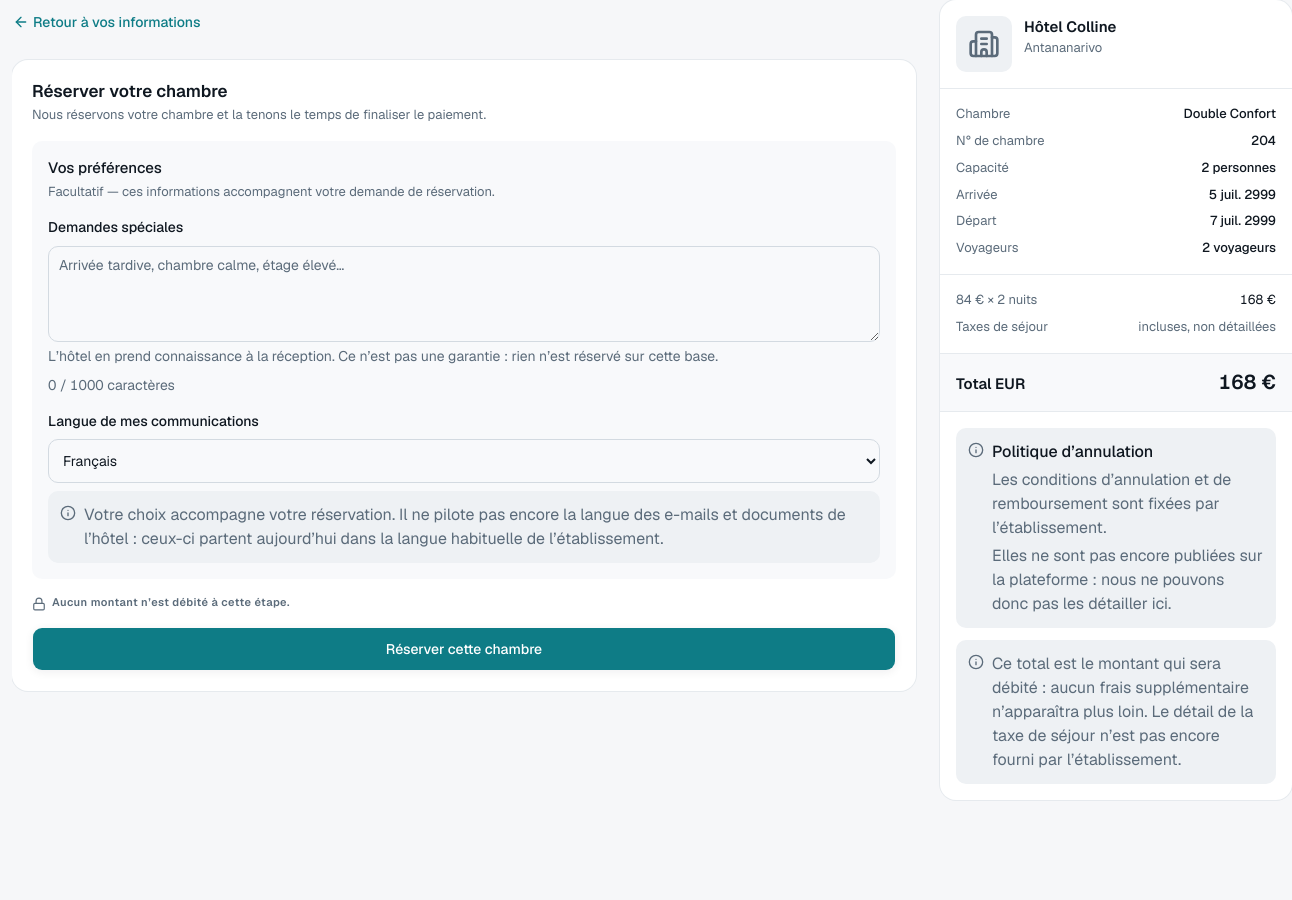
Test: BookingPayment — échecs et issues (AC-11) › motif `invalid-dates` → issue `400`
This screenshot has width=1292, height=900.
Click the button with test id "payment-create-cta": [464, 649] box x1=32 y1=627 x2=896 y2=671
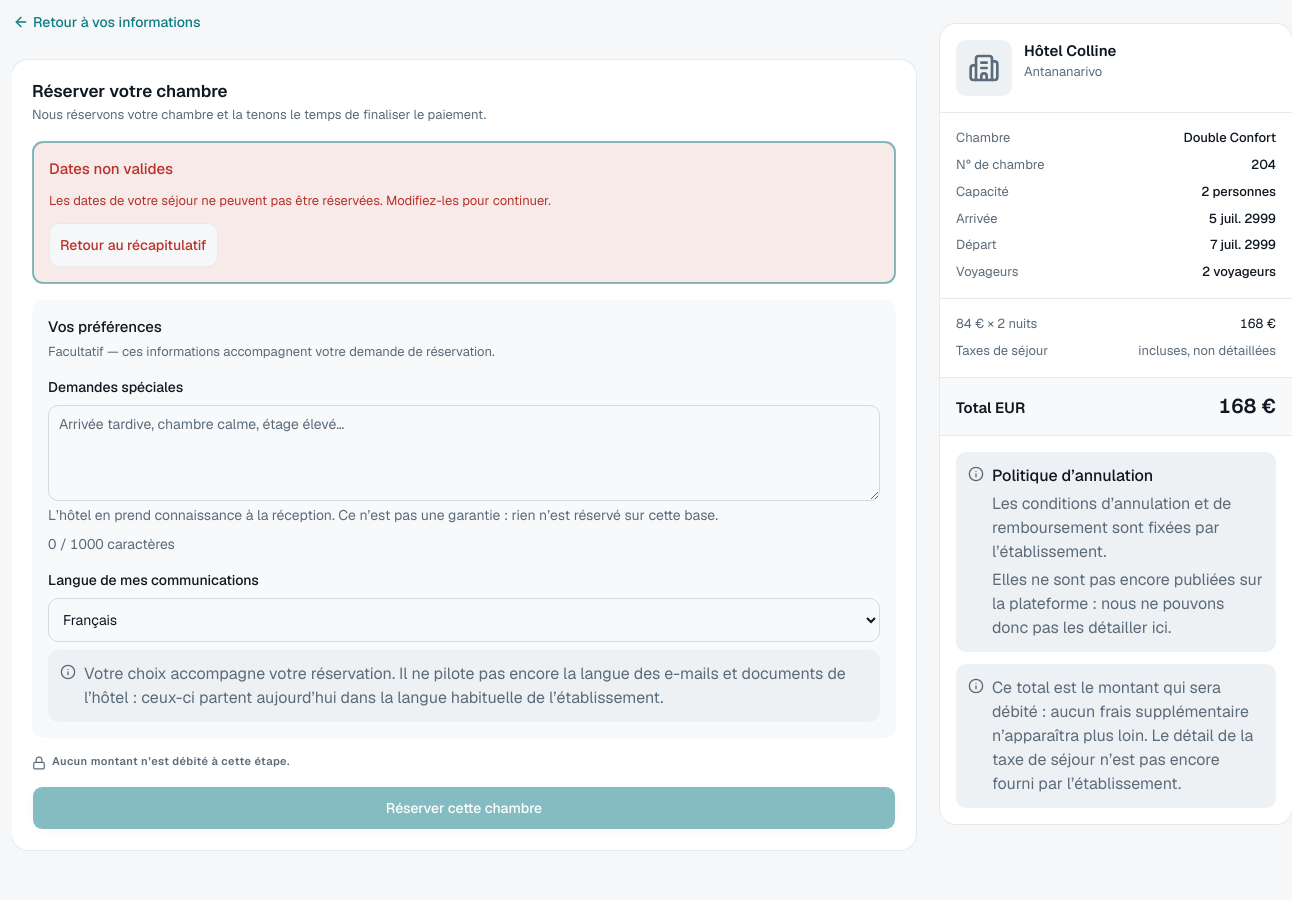
Result: the link with test id "payment-failure-edit-stay" is shown at x1=49 y1=223 x2=218 y2=267
